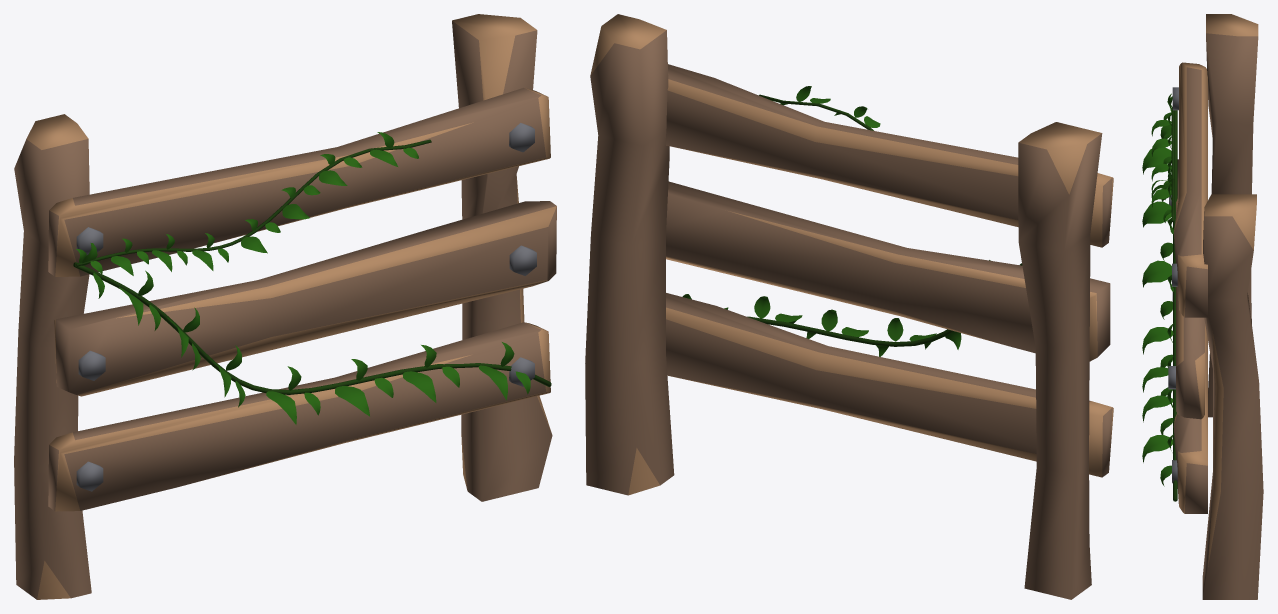
The model's file is ivyfence2.fbx.
The picture shows the model from 3 angles, left to right: view 1: azimuth 30°, elevation 25°; view 2: azimuth 150°, elevation 25°; view 3: azimuth 270°, elevation 25°; orthographic projection. The views are drawn at different scales.
Parts seen in each view (by area): view 1: ivyfence; view 2: ivyfence; view 3: ivyfence.
Boxes of the visible parts, bbox=[...] form: ivyfence: bbox=[14, 14, 556, 599]; ivyfence: bbox=[585, 14, 1113, 599]; ivyfence: bbox=[1142, 14, 1263, 599].
Bounding box in the file's own units: 0.4475 × 0.3814 × 0.1093.
